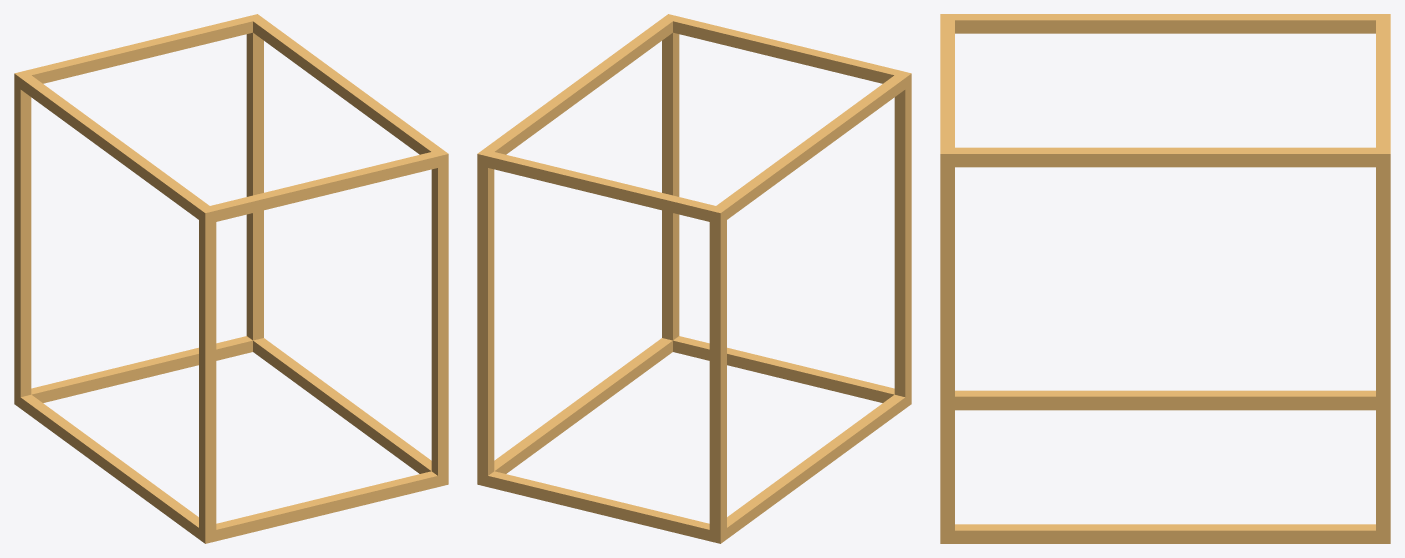
The model's file is wingsuit_helmets.glb.
3 renders of one model, left to right at view 1: azimuth 30°, elevation 25°; view 2: azimuth 150°, elevation 25°; view 3: azimuth 270°, elevation 25°, orthographic. The views are drawn at different scales.
Parts seen in each view (by area): view 1: box_0; view 2: box_0; view 3: box_0.
Part boxes in pixels (x1,y1,x2,y2): box_0: (14,14,448,543); box_0: (477,14,911,543); box_0: (940,14,1390,543).
Bounding box in the file's own units: 0.2234 × 0.29 × 0.3038.
